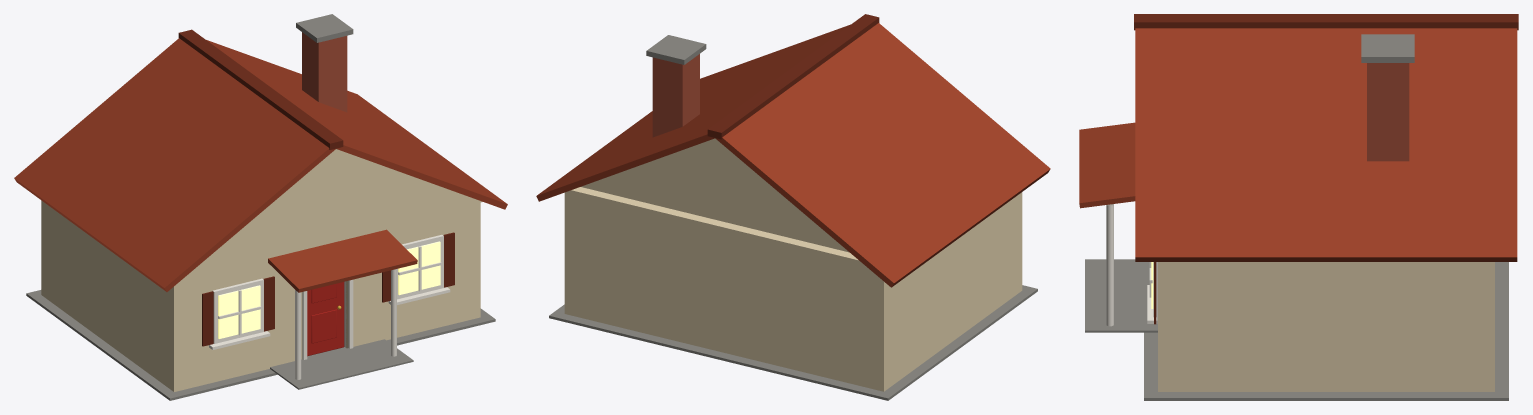
Rendered from house.glb.
The picture shows the model from 3 angles, left to right: view 1: azimuth 30°, elevation 25°; view 2: azimuth 150°, elevation 25°; view 3: azimuth 270°, elevation 25°; orthographic projection. The views are drawn at different scales.
Visible parts, largest first — view 1: RoofL, GableFront, WallLeft, WallFrontL, WallFrontR, RoofR, PorchRoof, Plinth, PorchSlab, Chimney, RidgeCap, WinGlass-1 (+13 smaller); view 2: RoofL, WallBack, WallLeft, GableBack, RoofR, Plinth, Chimney, RidgeCap, ChimneyCap, WallFrontL; view 3: RoofR, WallRight, Plinth, RidgeCap, PorchRoof, PorchSlab, Chimney, WallBack, WallFrontR, ChimneyCap, PorchPost1.
Boxes of the visible parts, box(x1,y1,x2,y2) form: RoofL: box(14, 38, 335, 291); GableFront: box(189, 149, 482, 273); WallLeft: box(47, 204, 168, 387); WallFrontL: box(168, 245, 306, 391); WallFrontR: box(346, 202, 480, 348); RoofR: box(206, 40, 507, 209); PorchRoof: box(268, 229, 417, 292); Plinth: box(26, 290, 495, 400); PorchSlab: box(270, 339, 413, 389); Chimney: box(302, 32, 347, 112); RidgeCap: box(178, 29, 343, 149); WinGlass-1: box(218, 285, 260, 338); RoofL: box(715, 23, 1050, 287); WallBack: box(564, 187, 889, 391); WallLeft: box(889, 196, 1016, 387); GableBack: box(581, 138, 849, 252); RoofR: box(536, 24, 850, 201); Plinth: box(549, 285, 1037, 400); Chimney: box(652, 54, 699, 137); RidgeCap: box(707, 14, 879, 139); ChimneyCap: box(646, 35, 706, 64); WallFrontL: box(1016, 192, 1022, 294); RoofR: box(1135, 28, 1517, 261); WallRight: box(1172, 262, 1480, 391); Plinth: box(1144, 262, 1508, 400); RidgeCap: box(1134, 14, 1518, 30); PorchRoof: box(1079, 122, 1135, 208); PorchSlab: box(1085, 259, 1157, 332); Chimney: box(1367, 63, 1409, 161); WallBack: box(1480, 262, 1494, 391); WallFrontR: box(1158, 262, 1171, 391); ChimneyCap: box(1361, 34, 1414, 62); PorchPost1: box(1106, 204, 1113, 326).
Size of what is drawn, in the model's own units: 8.97 by 6.07 by 7.82.
